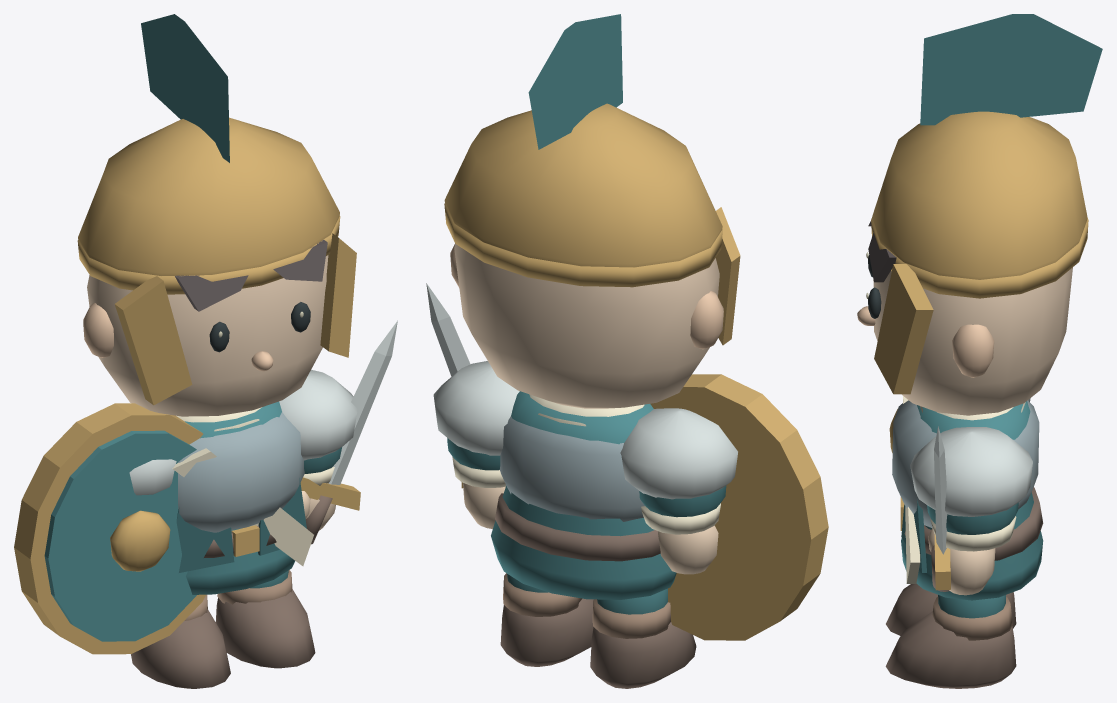
The model's file is guard.glb.
3 views of the same model, side by side, from view 1: azimuth 30°, elevation 25°; view 2: azimuth 150°, elevation 25°; view 3: azimuth 270°, elevation 25° (orthographic). The views are drawn at different scales.
Parts seen in each view (by area): view 1: Regional helmet, Regional shield face, Soft cheek head, Shield gold rim, Rounded breastplate, Greek crest, Corinthian cheek, Round leather boot.001, Round leather boot, Big shoulder armour.001, Short folded tunic, Corinthian cheek.001 (+14 smaller); view 2: Regional helmet, Soft cheek head, Shield gold rim, Short folded tunic, Rounded breastplate, Big shoulder armour, Greek crest, Helmet brow band, Big shoulder armour.001, Round leather boot, Round leather boot.001, Broad leather belt (+13 smaller); view 3: Regional helmet, Greek crest, Soft cheek head, Big shoulder armour.001, Round leather boot.001, Corinthian cheek.001, Short folded tunic, Rounded breastplate, Helmet brow band, Ear.001, Little mitten.001, Boot turn cuff.001 (+10 smaller).
Boxes of the visible parts, box(x1,y1,x2,y2) form: Regional helmet: box(78, 117, 339, 275); Regional shield face: box(44, 430, 196, 641); Soft cheek head: box(87, 255, 328, 416); Shield gold rim: box(14, 403, 205, 654); Rounded breastplate: box(178, 412, 304, 532); Greek crest: box(141, 14, 229, 162); Corinthian cheek: box(114, 276, 192, 405); Round leather boot.001: box(215, 588, 315, 668); Round leather boot: box(131, 609, 230, 688); Big shoulder armour.001: box(279, 369, 357, 460); Short folded tunic: box(185, 401, 294, 594); Corinthian cheek.001: box(320, 233, 356, 357); Regional helmet: box(444, 103, 722, 267); Soft cheek head: box(454, 244, 719, 408); Shield gold rim: box(650, 374, 828, 640); Short folded tunic: box(491, 391, 676, 599); Rounded breastplate: box(499, 416, 644, 521); Big shoulder armour: box(620, 408, 737, 499); Greek crest: box(528, 14, 622, 149); Helmet brow band: box(444, 203, 722, 287); Big shoulder armour.001: box(433, 361, 519, 455); Round leather boot: box(590, 622, 696, 688); Round leather boot.001: box(500, 598, 593, 666); Broad leather belt: box(495, 493, 660, 561); Regional helmet: box(872, 111, 1087, 279); Greek crest: box(920, 14, 1102, 125); Soft cheek head: box(873, 267, 1072, 415); Big shoulder armour.001: box(910, 427, 1032, 516); Round leather boot.001: box(885, 611, 1016, 688); Corinthian cheek.001: box(874, 264, 933, 394); Short folded tunic: box(901, 401, 1043, 600); Rounded breastplate: box(892, 400, 1039, 527); Helmet brow band: box(871, 217, 1088, 298); Ear.001: box(952, 324, 994, 377); Little mitten.001: box(949, 548, 995, 595); Boot turn cuff.001: box(932, 597, 1012, 640).
Size of the model in its own units: 1.15 by 1.83 by 0.639.
